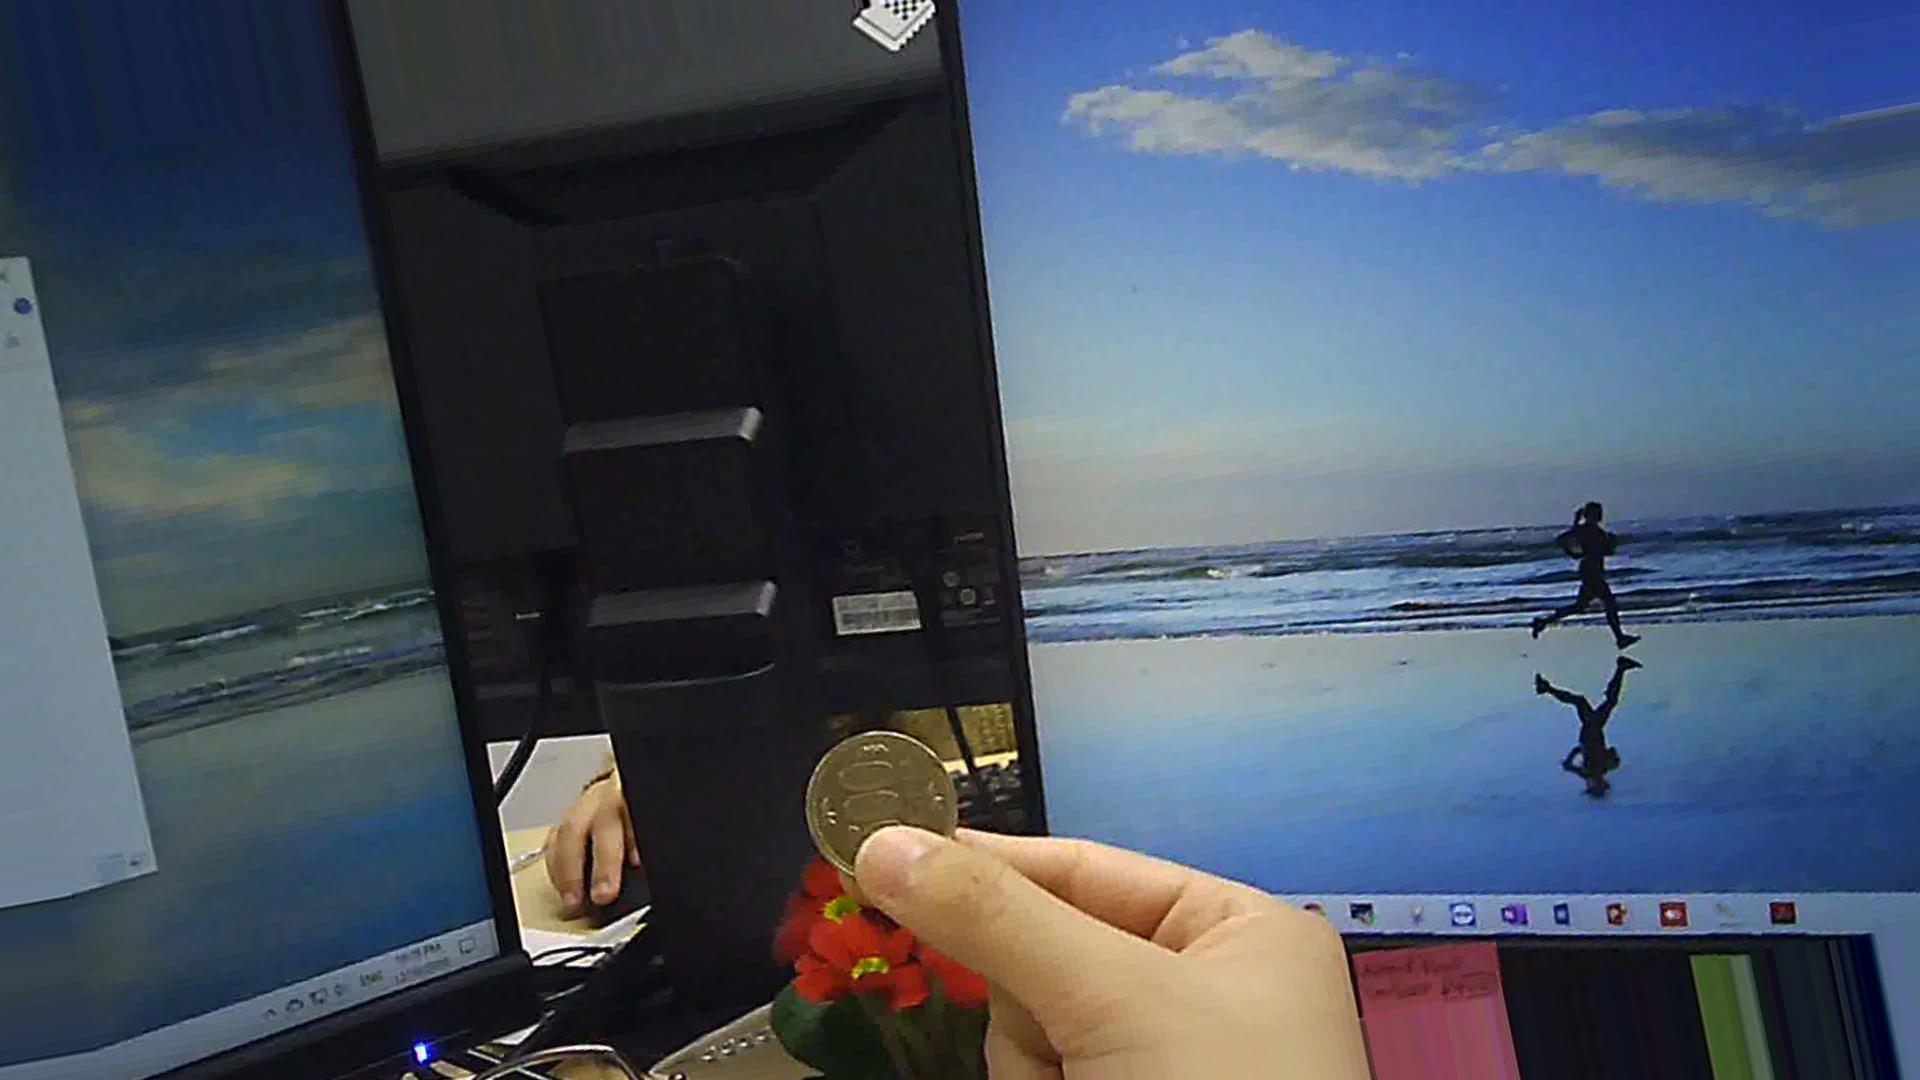500 Yen: (804, 725, 968, 894)
